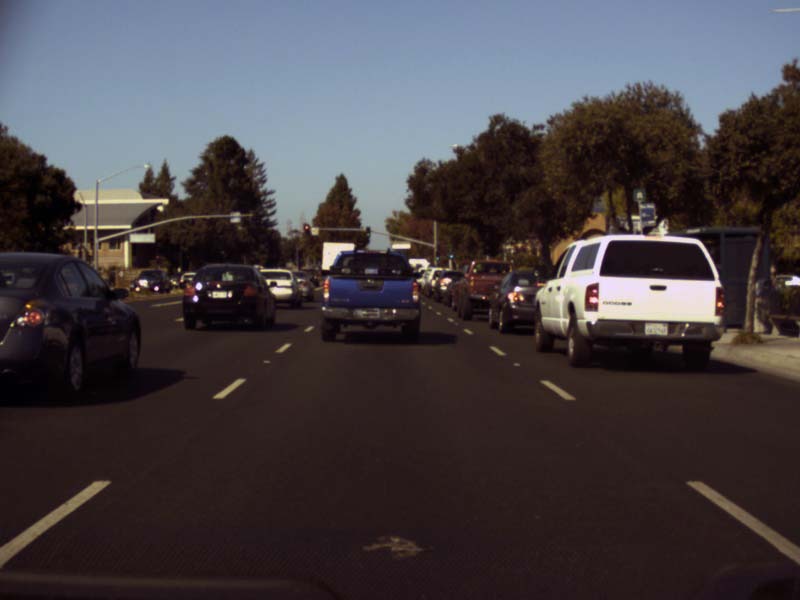Green: (364, 224, 371, 237), (434, 250, 440, 261), (448, 252, 454, 259)
Yellow: (302, 223, 310, 234)
